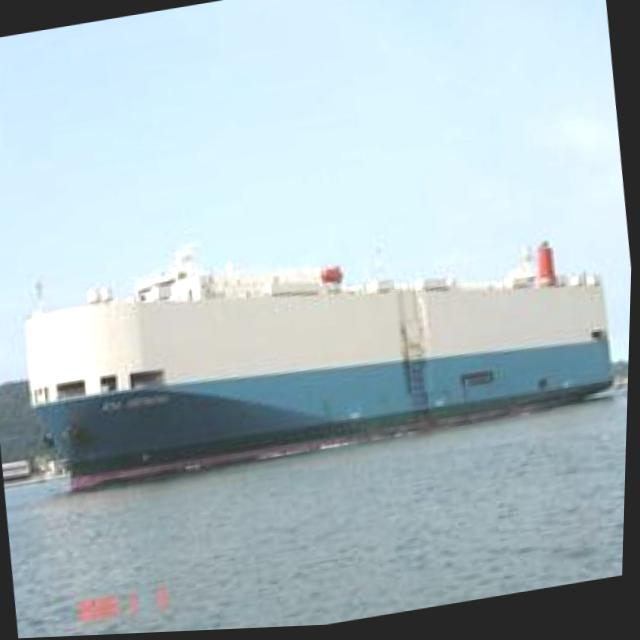ship2: (26, 243, 617, 494)
